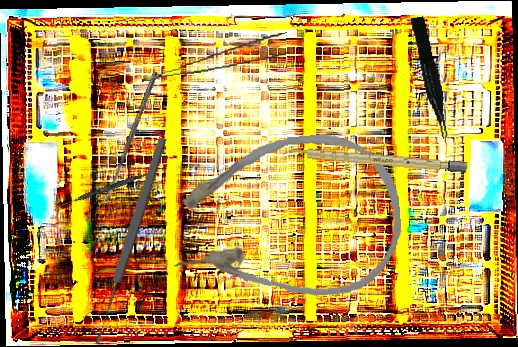Cannula: (163, 128, 407, 308)
Scalpel Handle: (282, 145, 469, 174)
Spatula Surgical: (55, 167, 156, 211)
Surgical Spoon: (90, 136, 169, 345), (101, 70, 159, 206)
Tissue Forceps: (138, 32, 291, 82), (410, 15, 451, 141)
